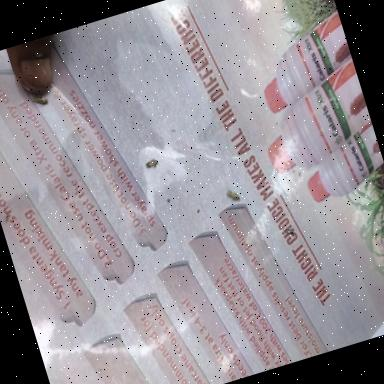pbw: (31, 90, 50, 108), (224, 182, 240, 202), (144, 156, 160, 170)
